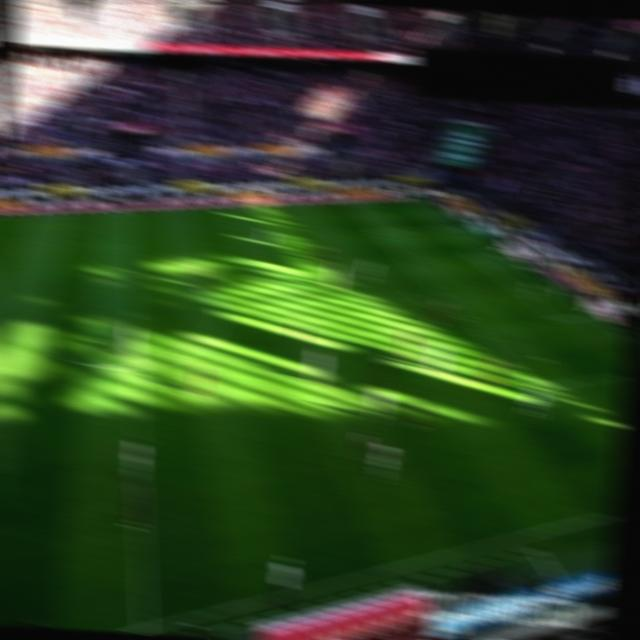bigarea_bottom_inner: (526, 379, 548, 399)
bigarea_top_inner: (368, 224, 388, 238)
bigarea_top_outter: (457, 220, 477, 235)
bottom_arc_area_intersection: (456, 312, 477, 325)
corner: (417, 194, 438, 208)
halfcircle_bottom: (124, 358, 145, 372)
halfcircle_top: (122, 271, 142, 284)
midline_bottom_intersection: (130, 618, 159, 635)
midline_top_intersection: (120, 204, 140, 219)
smallarea_bottom_inner: (544, 313, 565, 326)
smallarea_bottom_outter: (582, 309, 603, 323)
smallarea_top_inner: (463, 250, 485, 264)
smallarea_top_outter: (496, 248, 516, 262)
top_arc_area_intersection: (402, 258, 422, 271)
